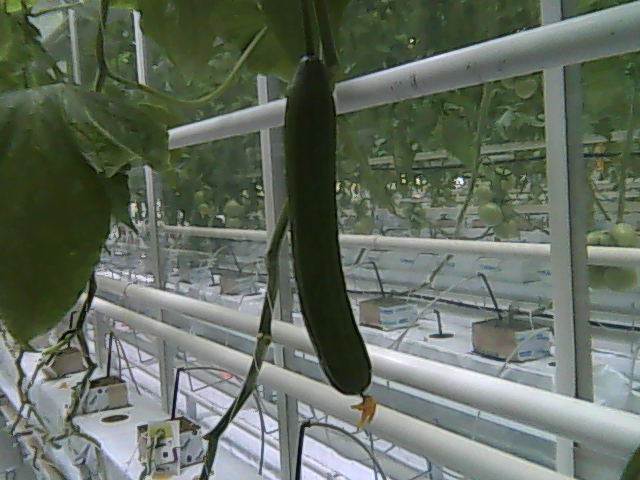concombre: (280, 47, 377, 436)
